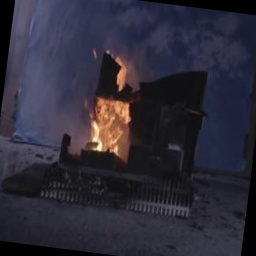fire: (75, 50, 153, 156)
